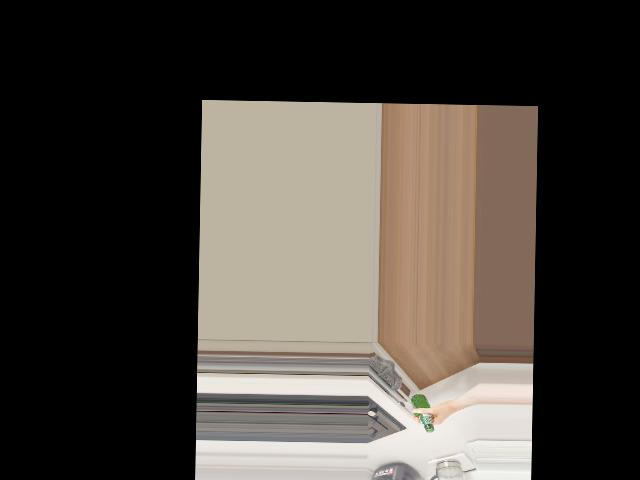beer: (410, 393, 435, 432)
